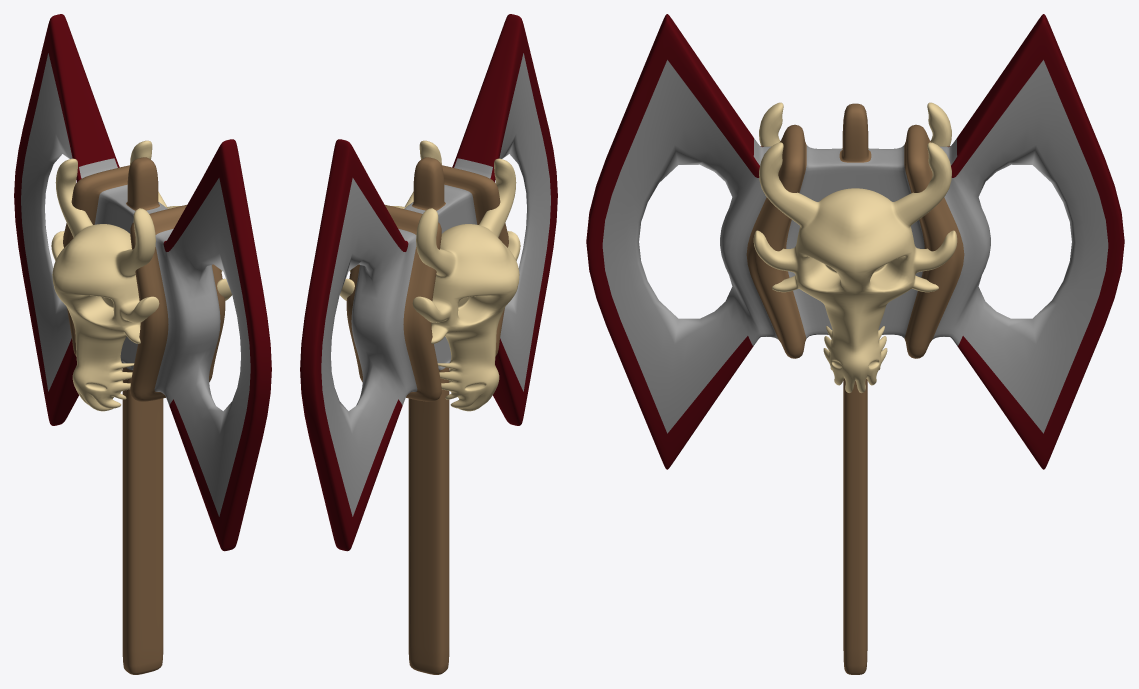
3 renders of one model, left to right at view 1: azimuth 30°, elevation 25°; view 2: azimuth 150°, elevation 25°; view 3: azimuth 270°, elevation 25°, orthographic. The views are drawn at different scales.
Parts seen in each view (by area): view 1: Cube, Sphere.003, Sphere.000; view 2: Cube, Sphere.003, Sphere.000; view 3: Cube, Sphere.000, Sphere.003.
Part boxes in pixels (bbox=[...]): Cube: bbox=[14, 14, 271, 674]; Sphere.003: bbox=[51, 158, 159, 411]; Sphere.000: bbox=[130, 140, 231, 300]; Cube: bbox=[300, 14, 557, 674]; Sphere.003: bbox=[412, 158, 520, 411]; Sphere.000: bbox=[340, 140, 441, 300]; Cube: bbox=[586, 14, 1124, 674]; Sphere.000: bbox=[753, 142, 957, 392]; Sphere.003: bbox=[759, 102, 951, 148].
Bounding box in the file's own units: 236 × 764 × 570.
